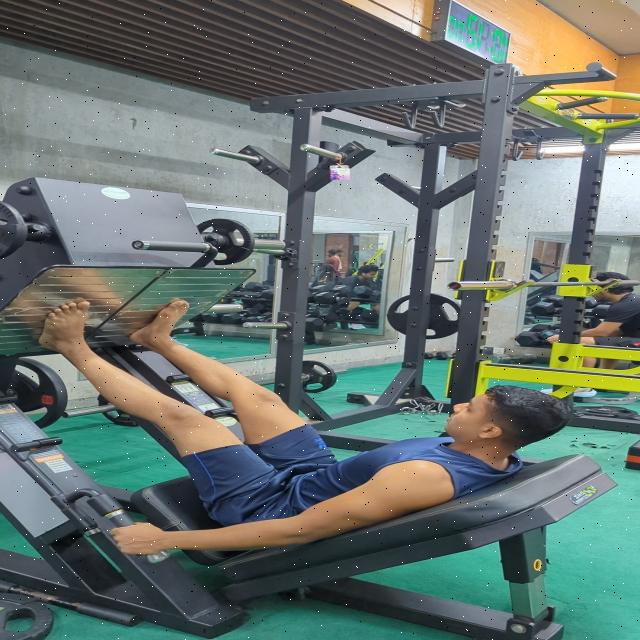Normal_LegPress: (27, 290, 574, 565)
